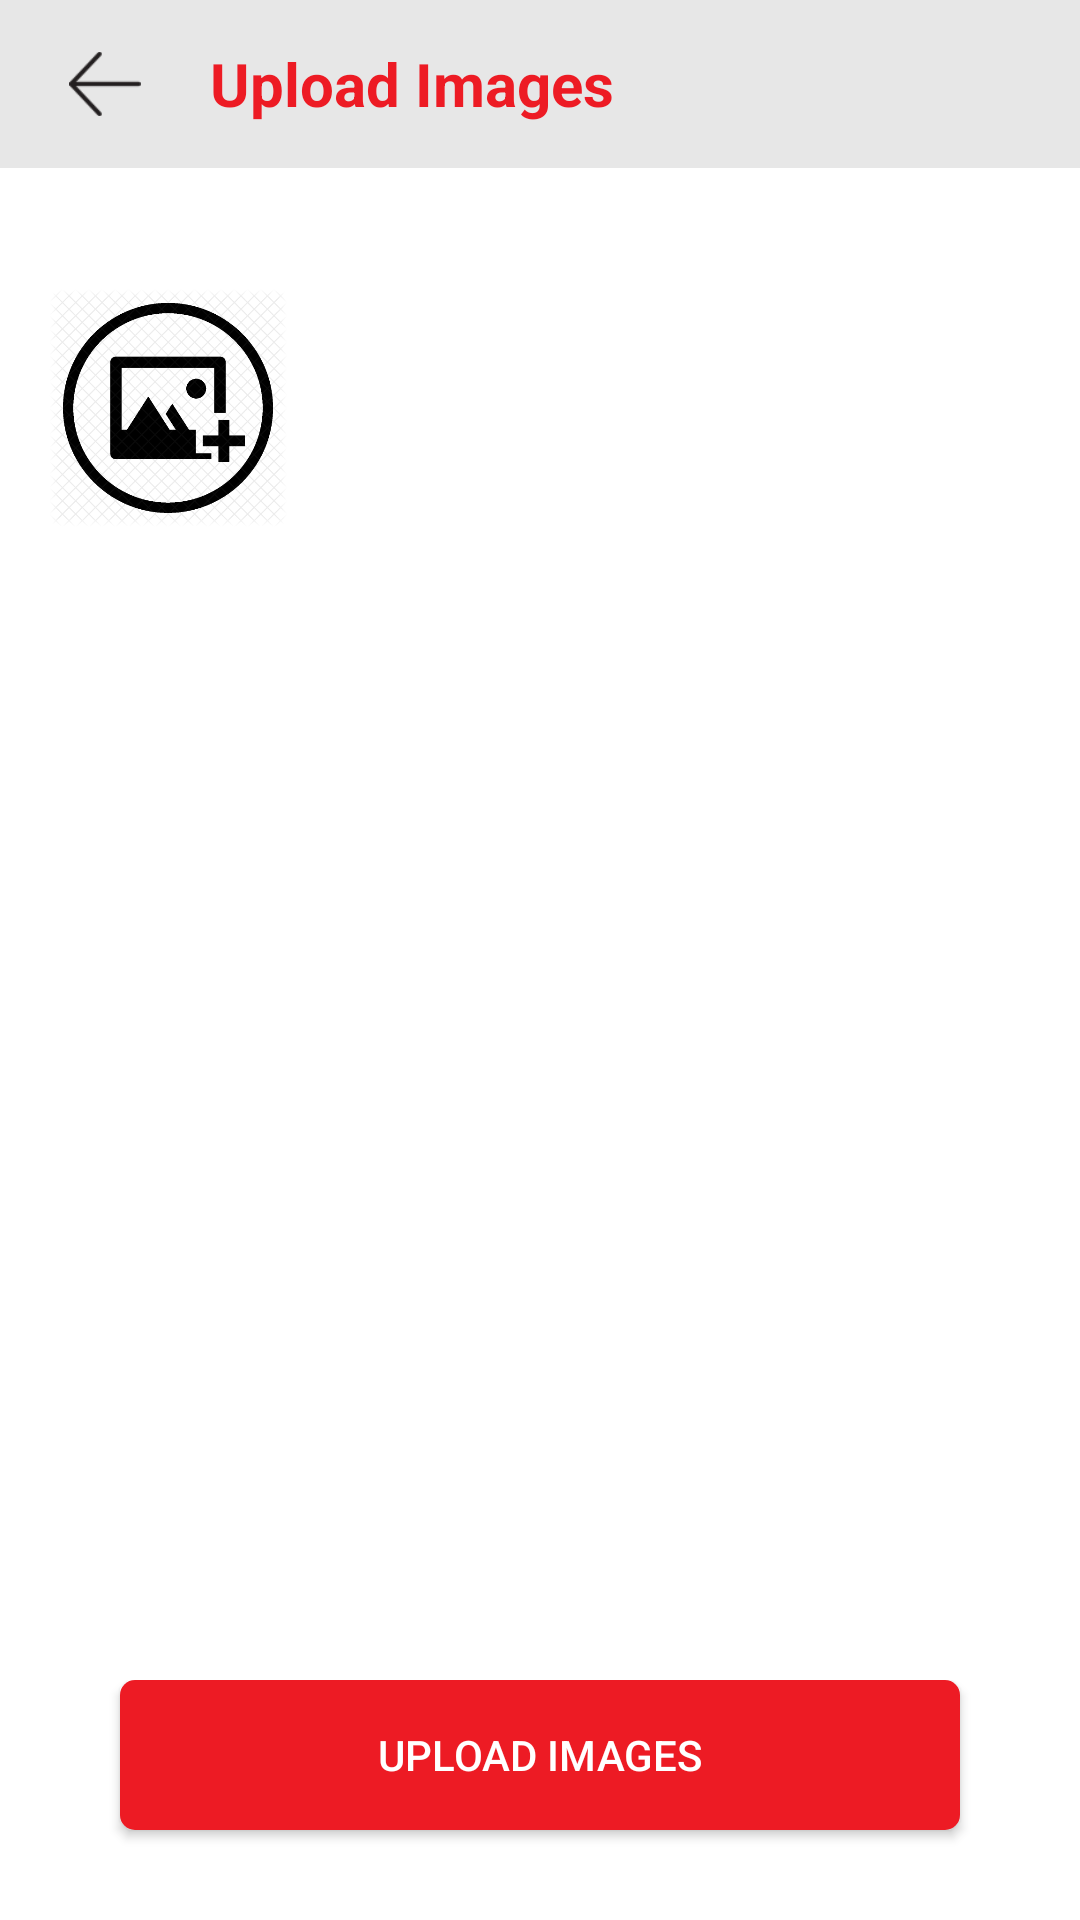

Icons on this 1080w x 1920h Android screen, each with the point to tap as (x=x, y=y):
back: (x=105, y=84)
gallery: (x=168, y=408)
